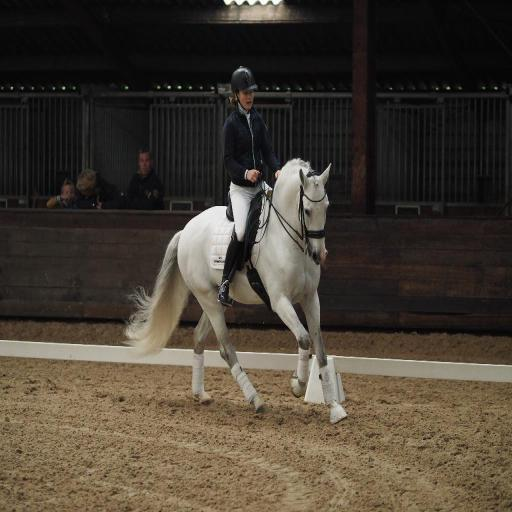horse: (122, 155, 348, 430)
